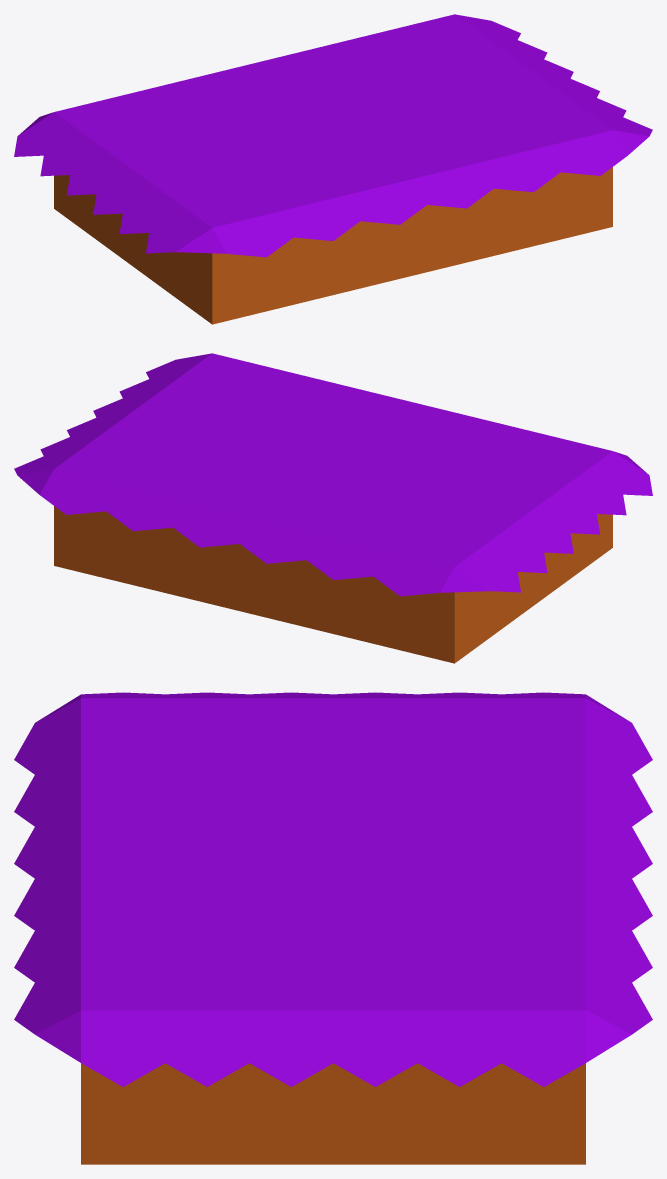
The model's file is terreno_roxo.glb.
3 renders of one model, top to bottom at view 1: azimuth 30°, elevation 25°; view 2: azimuth 150°, elevation 25°; view 3: azimuth 270°, elevation 25°, orthographic. The views are drawn at different scales.
Parts seen in each view (by area): view 1: block; view 2: block; view 3: block.
Boxes of the visible parts, x1=… form: block: x1=14, y1=14, x2=652, y2=324; block: x1=14, y1=353, x2=652, y2=663; block: x1=14, y1=692, x2=652, y2=1164.
Bounding box in the file's own units: 7.03 × 1.28 × 4.81.
